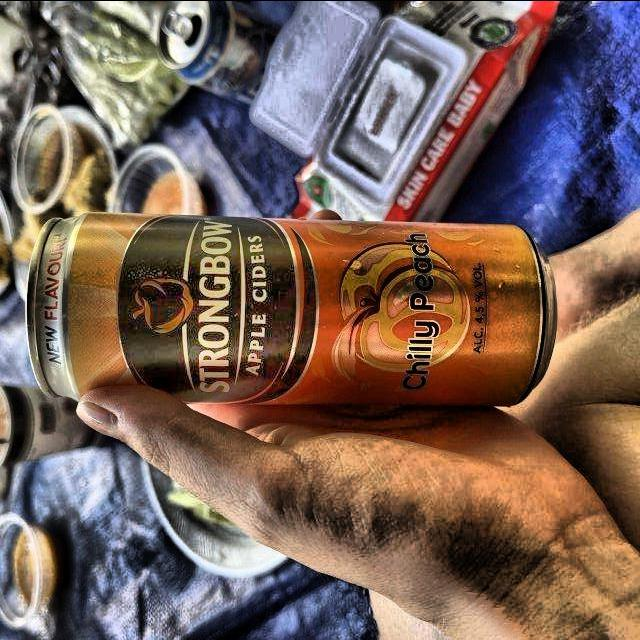Aluminum Can: (23, 215, 560, 410), (151, 0, 277, 101)
